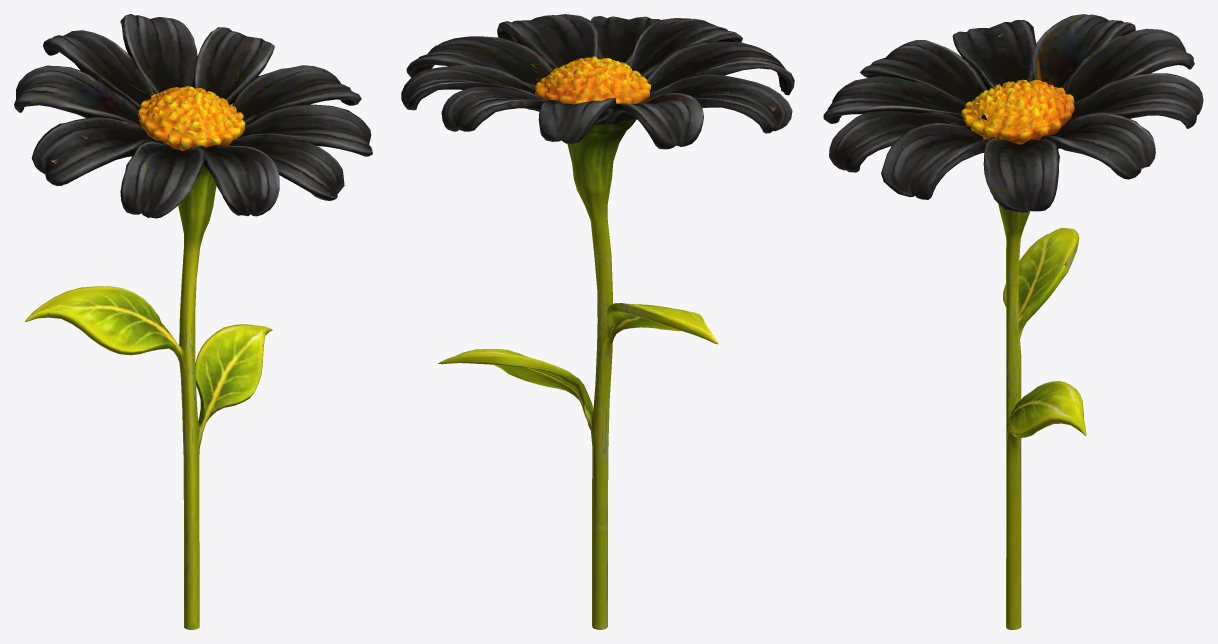
Rendered from daisy_black.glb.
3 views of the same model, side by side, from view 1: azimuth 30°, elevation 25°; view 2: azimuth 150°, elevation 25°; view 3: azimuth 270°, elevation 25° (orthographic). The views are drawn at different scales.
Parts seen in each view (by area): view 1: geometry_0; view 2: geometry_0; view 3: geometry_0.
Boxes of the visible parts, x1,y1,x2,y2 form: geometry_0: [14, 14, 372, 629]; geometry_0: [401, 14, 794, 629]; geometry_0: [823, 14, 1203, 629].
Bounding box in the file's own units: 0.5835 × 0.9482 × 0.5767.
1 material, 1 textured.
